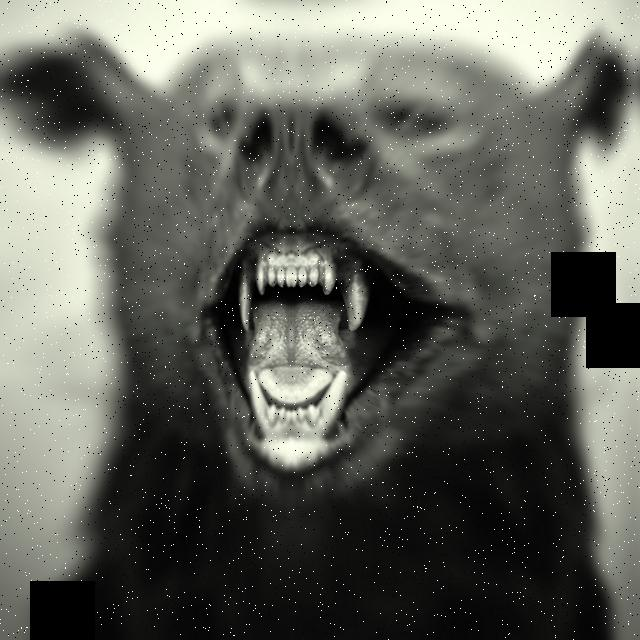Bear: (6, 32, 640, 639)
